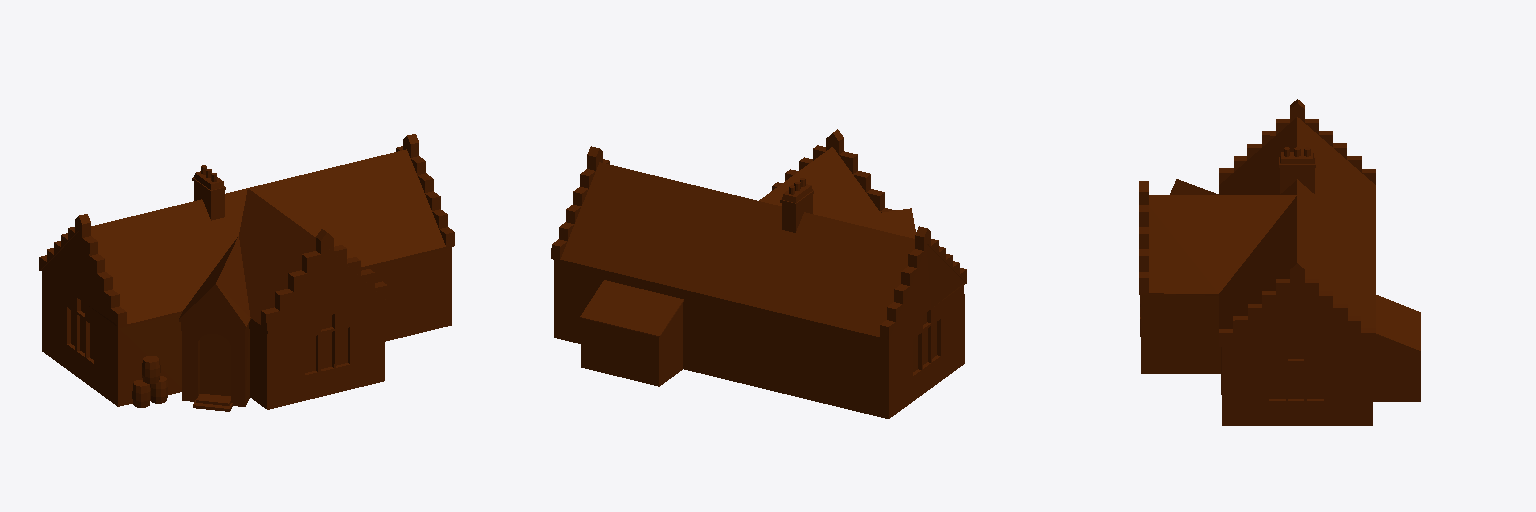
File: house2.obj
The picture shows the model from 3 angles: view 1: azimuth 30°, elevation 25°; view 2: azimuth 150°, elevation 25°; view 3: azimuth 270°, elevation 25°; orthographic projection.
Visible parts, largest first — view 1: house2; view 2: house2; view 3: house2.
Part boxes in pixels (left/top/right/bottom): house2: left=39, top=134, right=454, bottom=411; house2: left=551, top=129, right=966, bottom=418; house2: left=1139, top=99, right=1420, bottom=425.
Size of the model in its own units: 13.64 by 6.87 by 9.89.